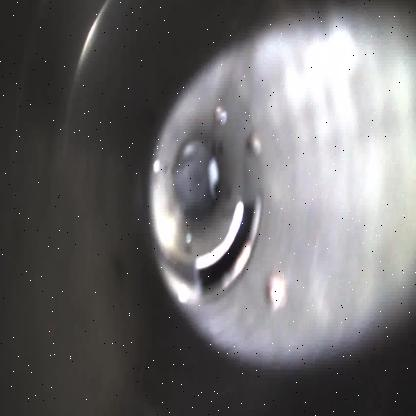Crack2: (193, 196, 264, 299)
